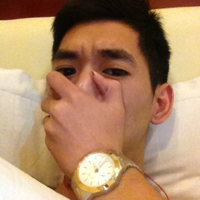face: (40, 18, 147, 153)
